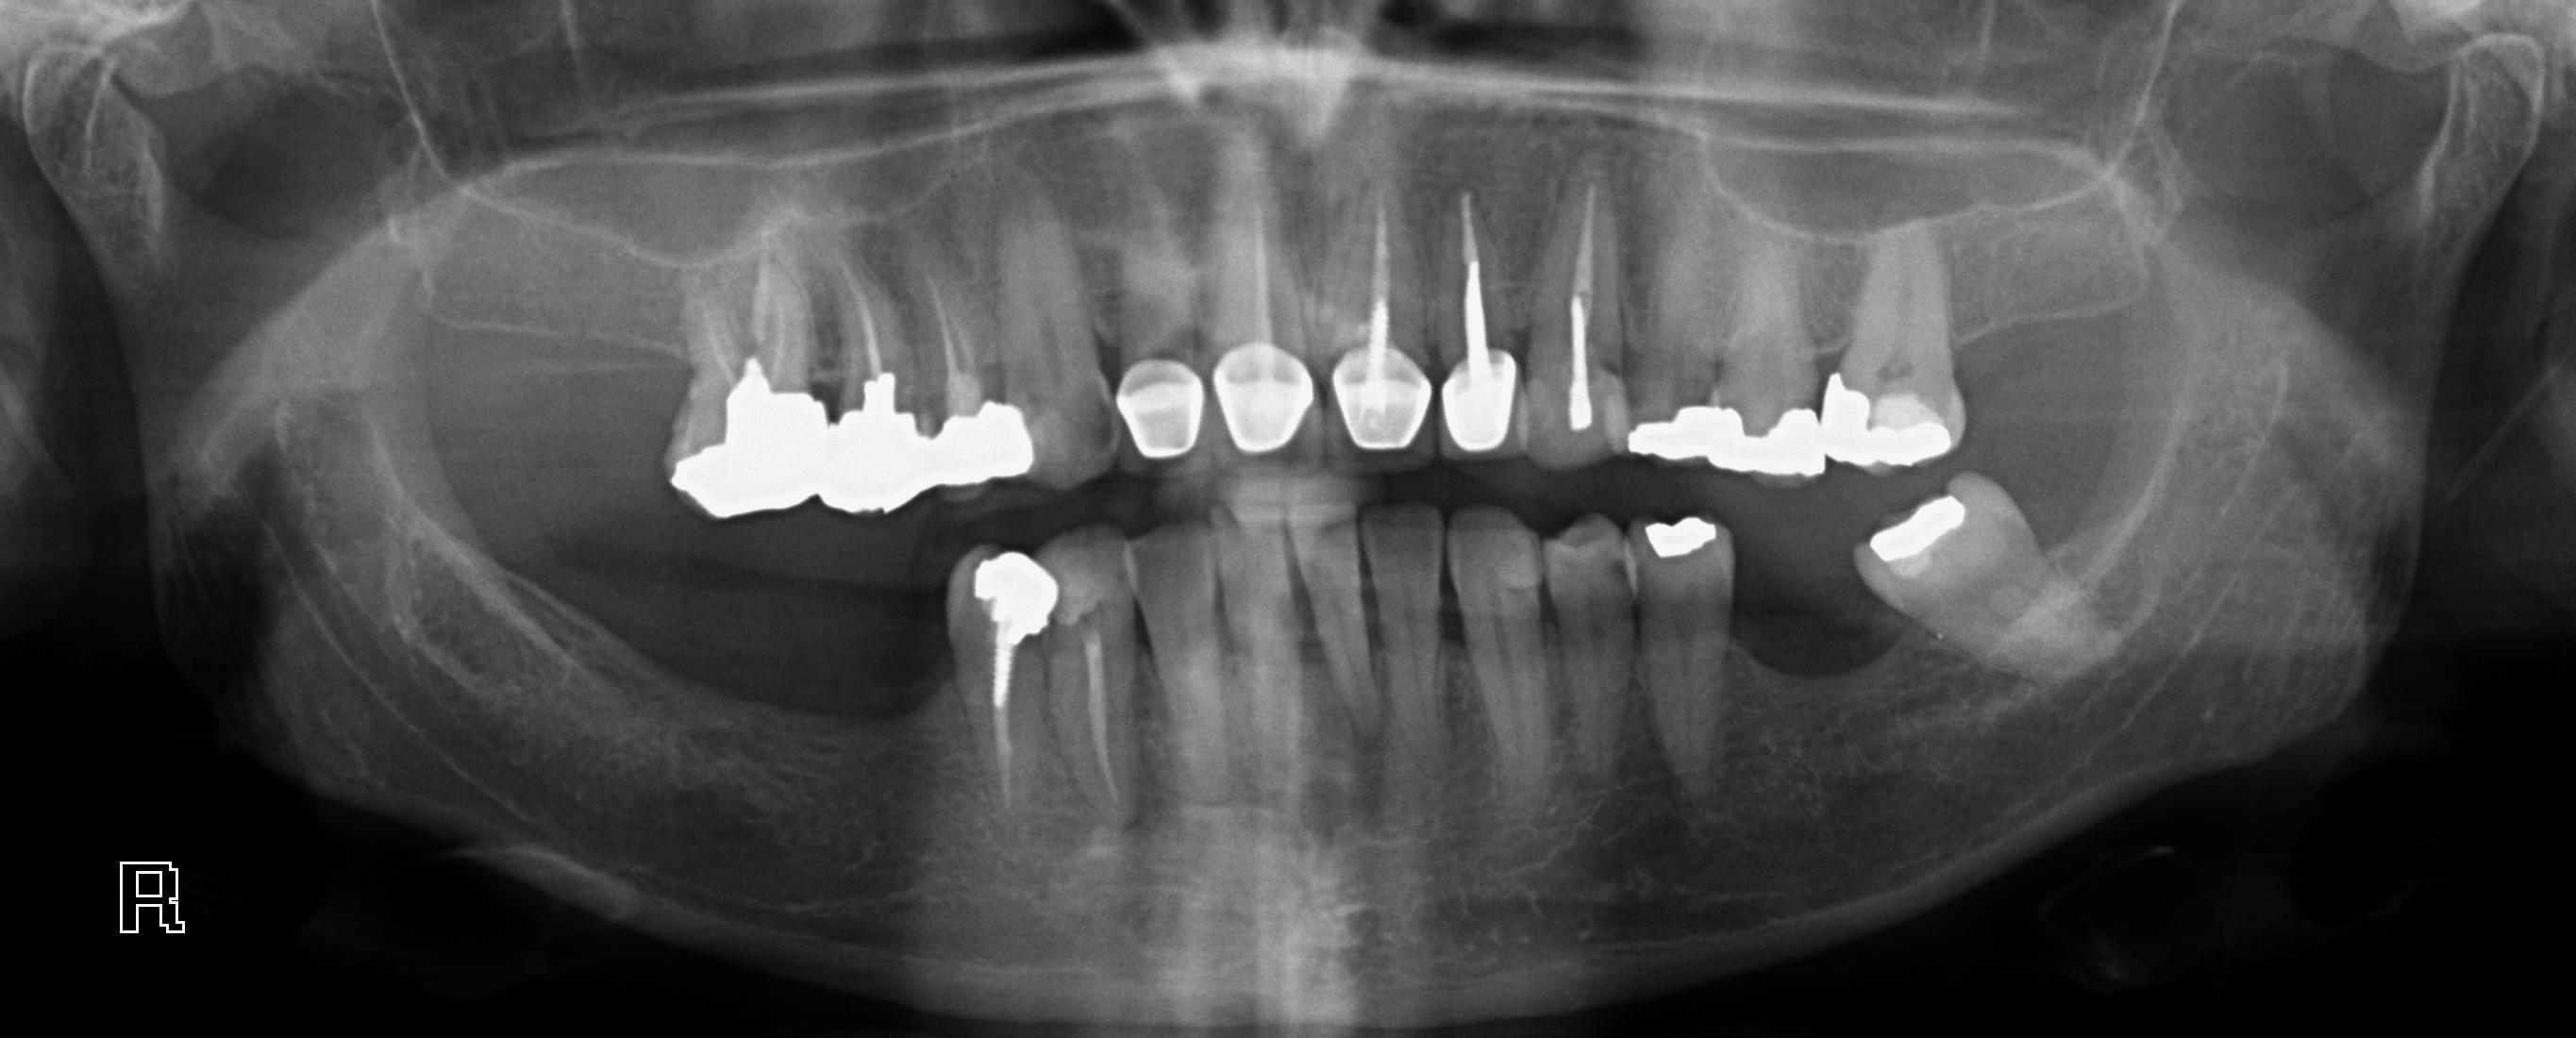Çürük: (657, 342, 824, 527), (1619, 375, 1835, 487), (821, 350, 936, 527), (961, 539, 1067, 718), (1820, 347, 1957, 466), (1103, 342, 1213, 472), (1325, 332, 1434, 462), (1851, 481, 1991, 576), (937, 381, 1049, 496), (1215, 332, 1307, 466), (1440, 332, 1532, 462), (1629, 502, 1730, 562)
Çürük Bölgesi: (1055, 519, 1130, 619), (1070, 383, 1136, 464), (1076, 602, 1123, 628), (1600, 553, 1631, 589)
